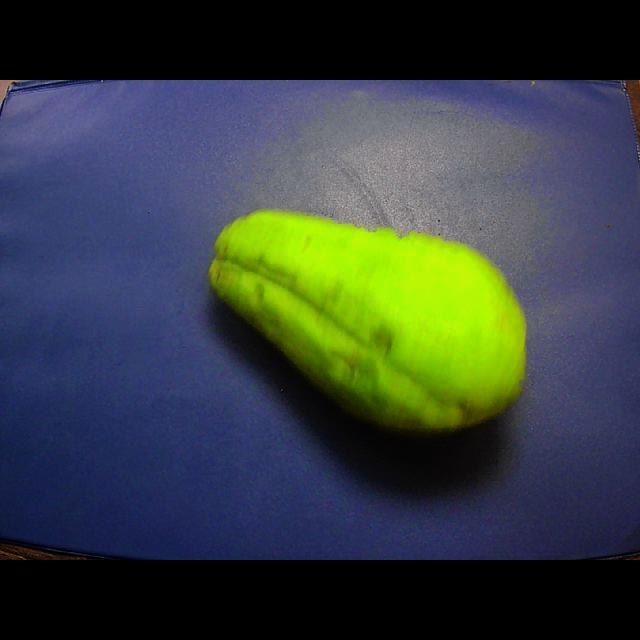chayote: (210, 210, 525, 435)
